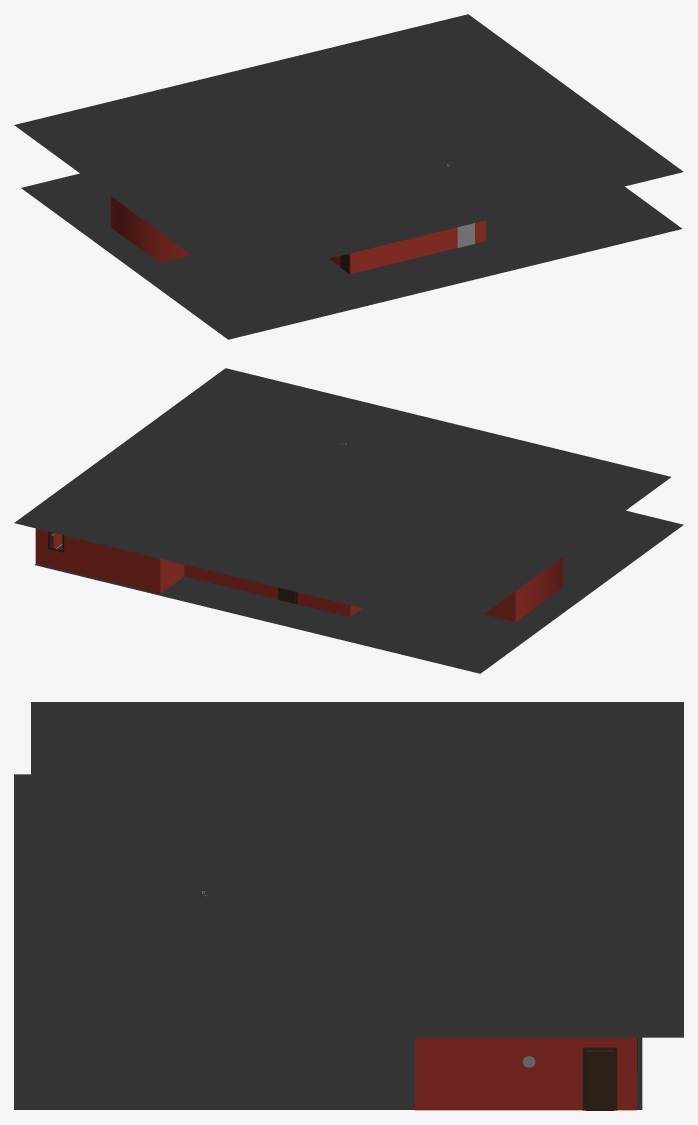
Rendered from HouseDesign.FBX.
3 renders of one model, top to bottom at view 1: azimuth 30°, elevation 25°; view 2: azimuth 150°, elevation 25°; view 3: azimuth 270°, elevation 25°, orthographic. The views are drawn at different scales.
Visible parts, largest first — view 1: Plane083, Plane037, Plane061; view 2: Plane083, Plane037, Plane061; view 3: Plane083, Plane037, Plane061, Object008.
Part boxes in pixels (left/top/right/bottom): Plane083: left=14, top=14, right=683, bottom=282; Plane037: left=21, top=173, right=682, bottom=339; Plane061: left=110, top=196, right=485, bottom=273; Plane083: left=14, top=368, right=670, bottom=631; Plane037: left=35, top=510, right=683, bottom=673; Plane061: left=35, top=528, right=563, bottom=621; Plane083: left=31, top=702, right=683, bottom=1037; Plane037: left=14, top=774, right=642, bottom=1109; Plane061: left=415, top=1037, right=637, bottom=1110; Object008: left=585, top=1050, right=614, bottom=1110.
Bounding box in the file's own units: 859 × 109 × 713.
